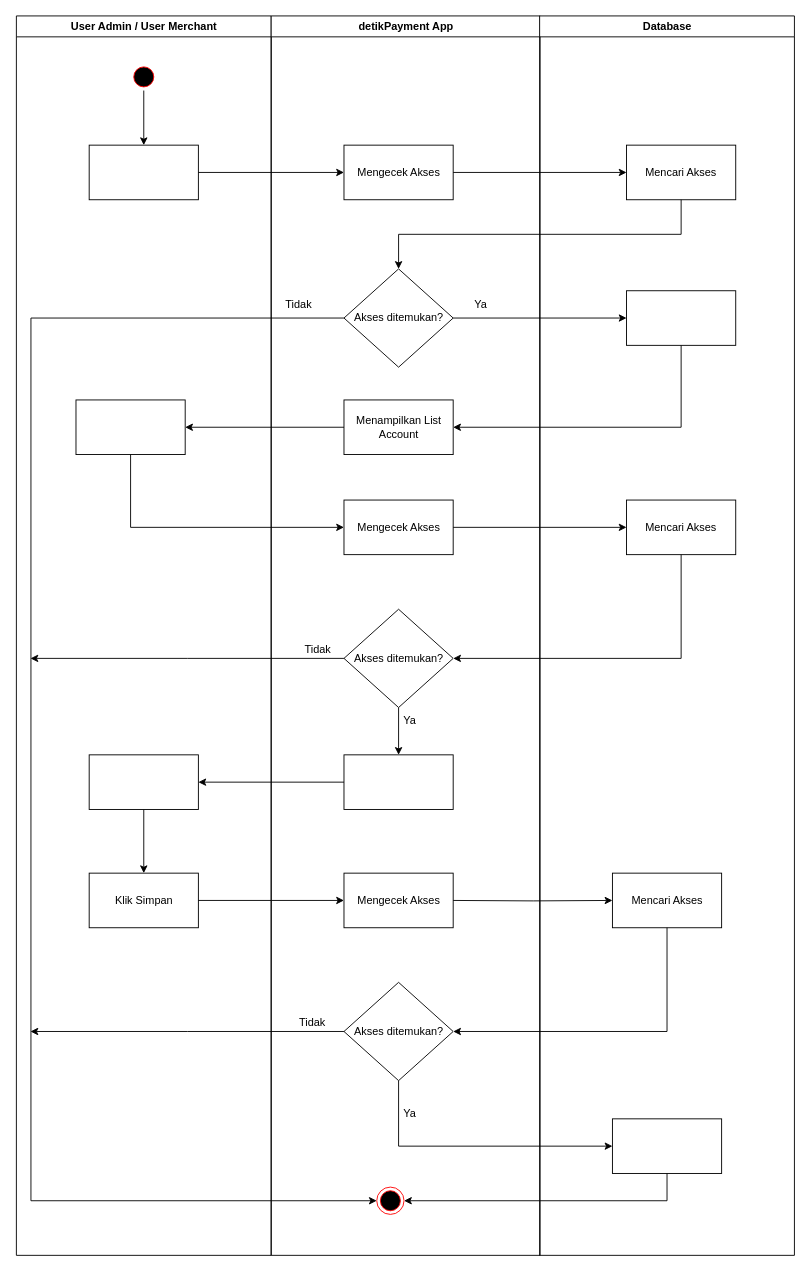
This 810x1271 diagram has some shape labels left out. Here are the shapes that lost their labels. From the top down, the centre of each, then its label:
(143,172): Membuka Menu Payment Settings --> Account
(681,317): Mendapatkan List Account
(130,427): Klik Add New Category / Edit Account
(143,781): Melengkapi Form
(398,781): Menampilkan Form
(667,1145): Menyimpan Data
